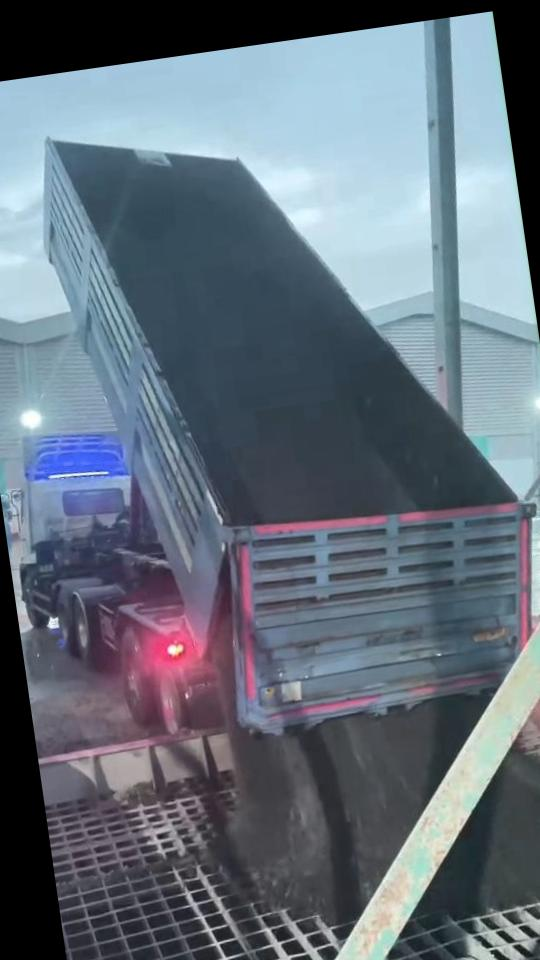gravel: (218, 616, 483, 921), (425, 755, 540, 915)
